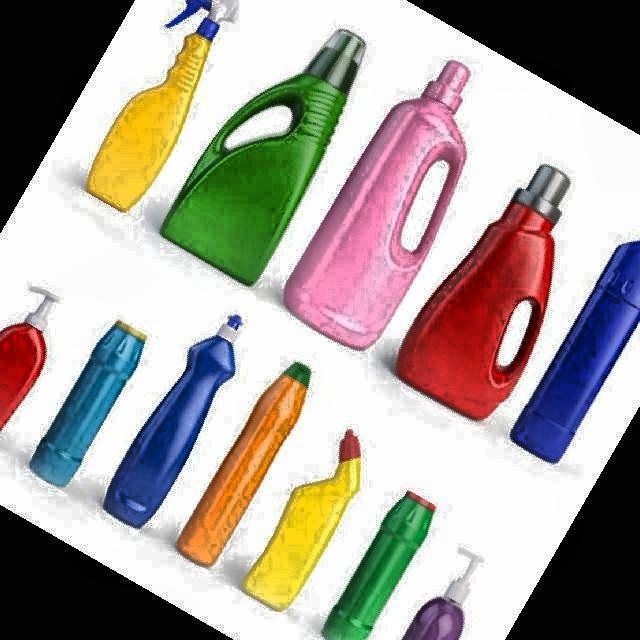plastic: (285, 61, 469, 348), (163, 30, 365, 284), (396, 165, 570, 418), (86, 0, 238, 211), (105, 315, 241, 527), (511, 241, 640, 462), (178, 364, 310, 566), (242, 430, 360, 610), (30, 321, 145, 486), (322, 491, 435, 640), (0, 287, 59, 429), (402, 549, 482, 639)
